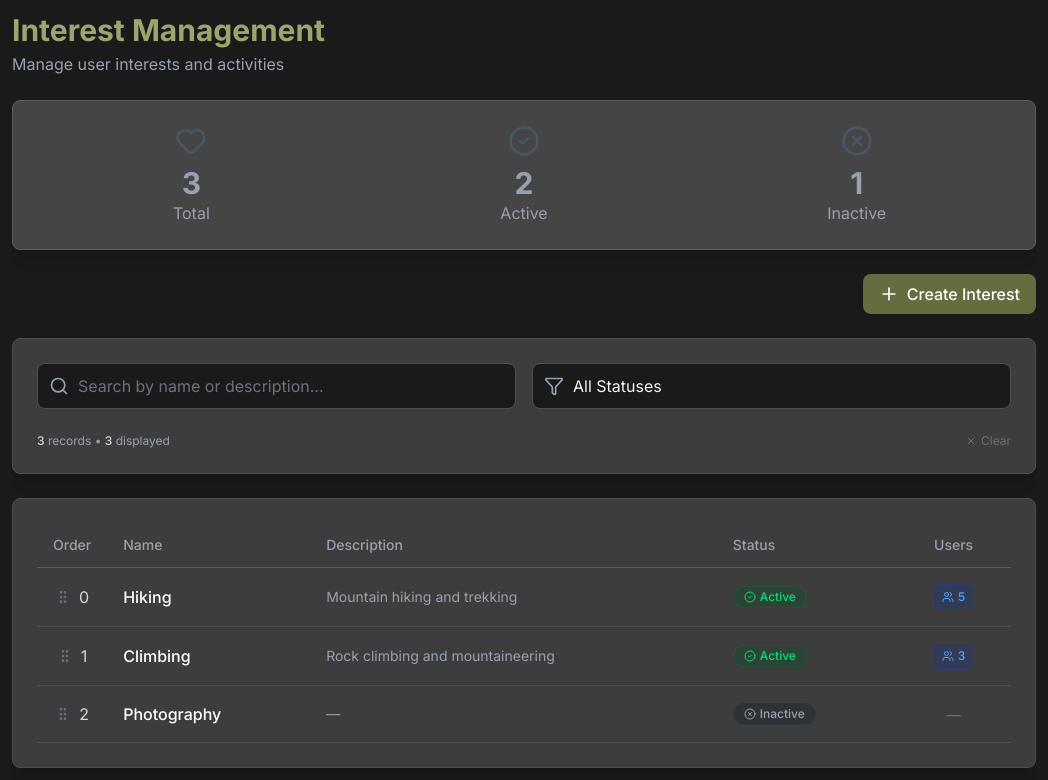
Test: InterestManagement › Search Functionality › should filter by description
expect the text "Hiking" is shown: met, box [123,587,172,607]
Type "mountaineering" into the field with placeholder "Search by name or description..." at [276, 386], box [37,363,516,409]
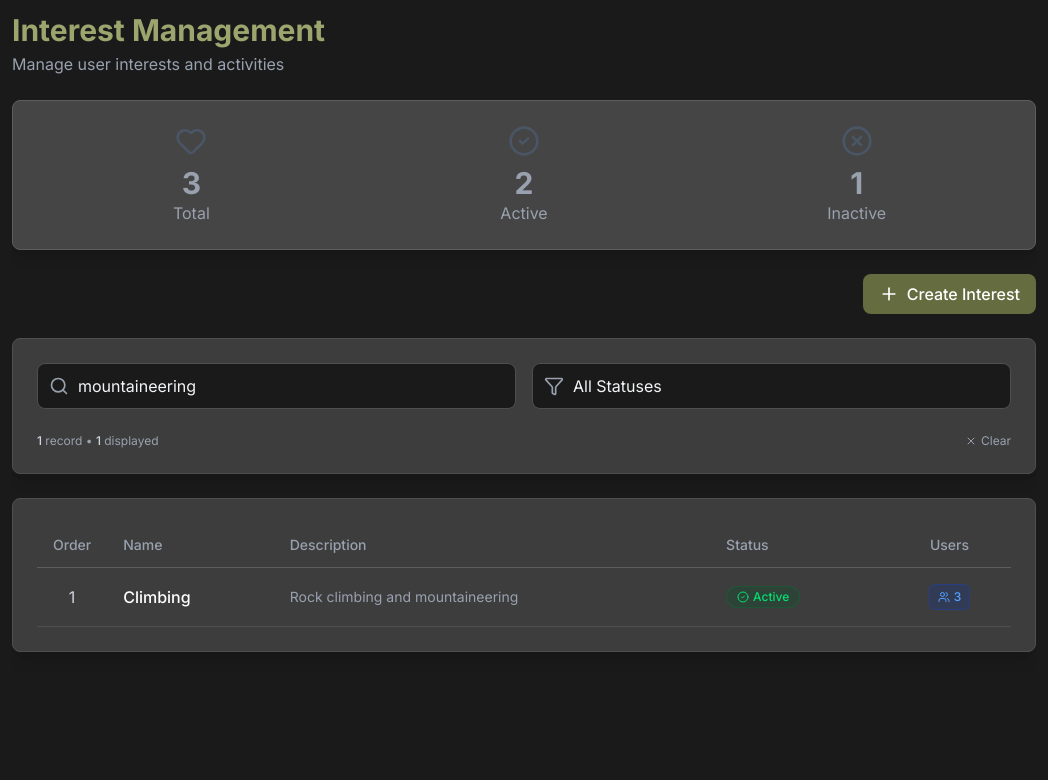
expect the text "Climbing" is shown: met, box [123,587,191,607]
expect the text "Hiking" is gone: met
